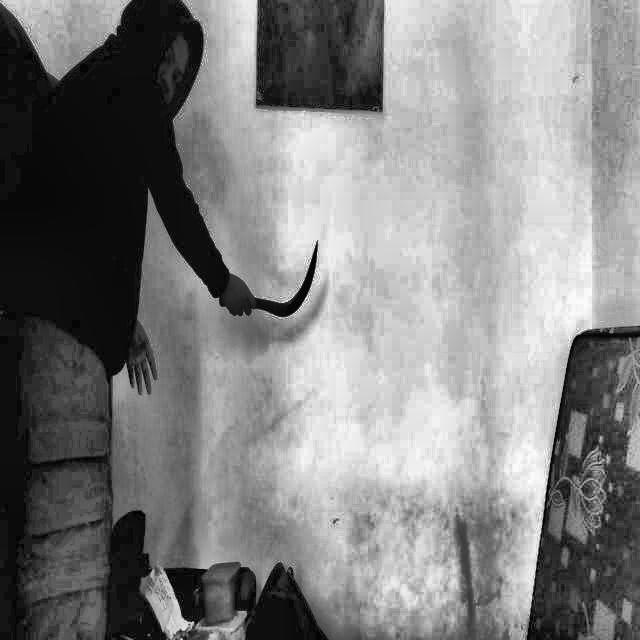celurit: (212, 224, 332, 339)
